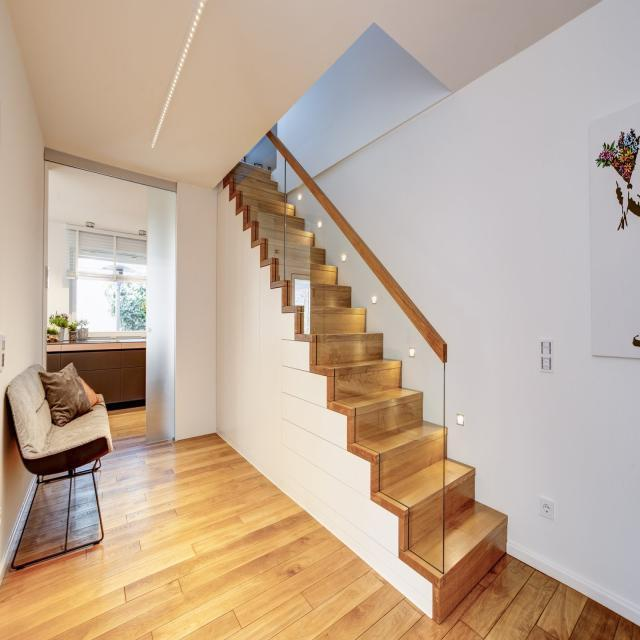stairs: (220, 155, 508, 622)
